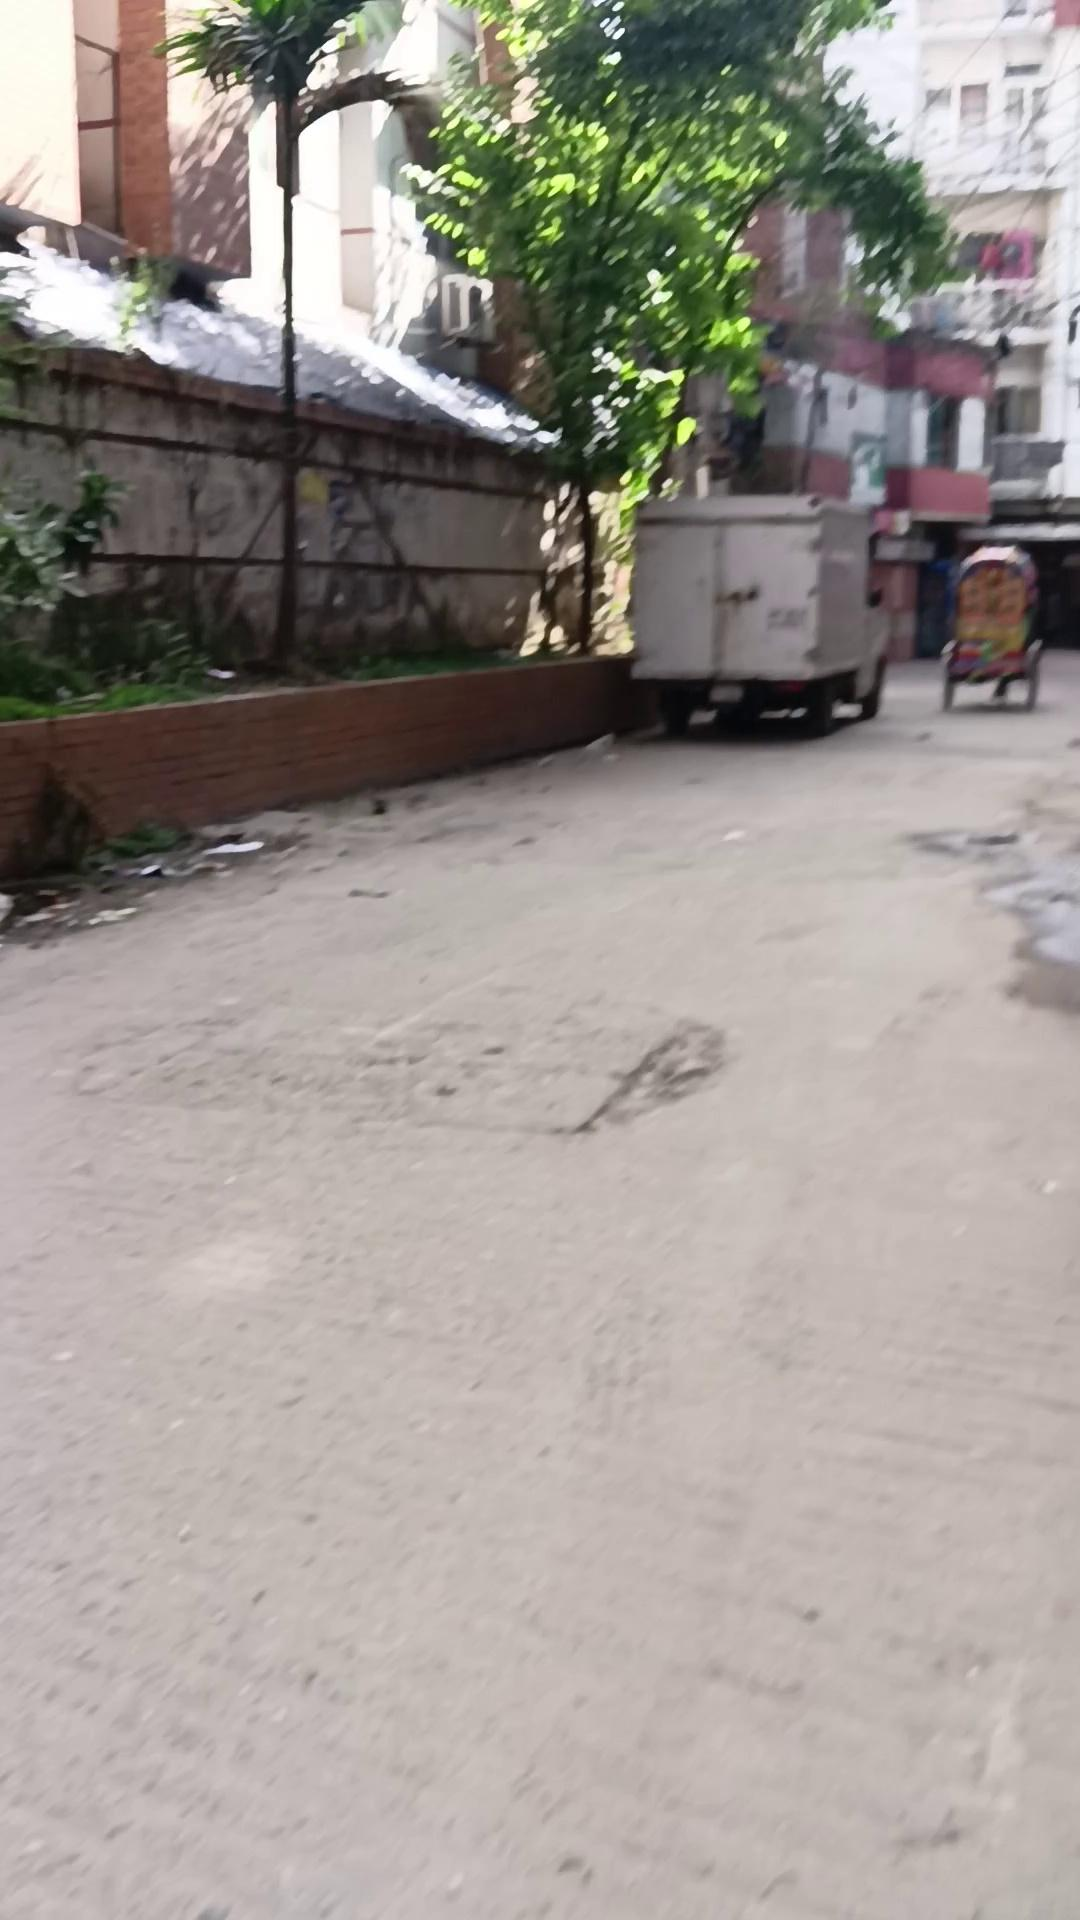Broken-road: (2, 648, 1078, 1916)
Pothole: (937, 541, 1045, 712)
Traffic-cone: (386, 1, 970, 651), (156, 1, 427, 639)
Traffic-sign: (625, 489, 890, 739)
Tree: (1, 647, 645, 880)
